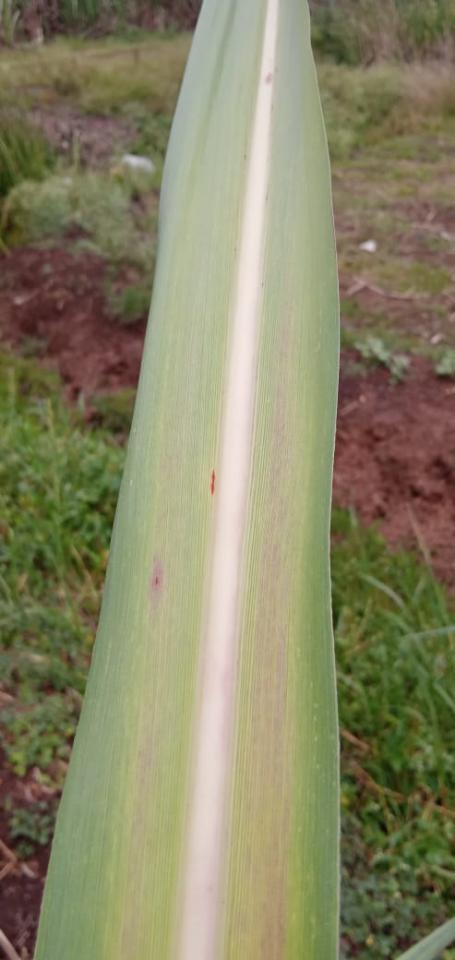Rust: (211, 470, 216, 495), (155, 575, 160, 586)
